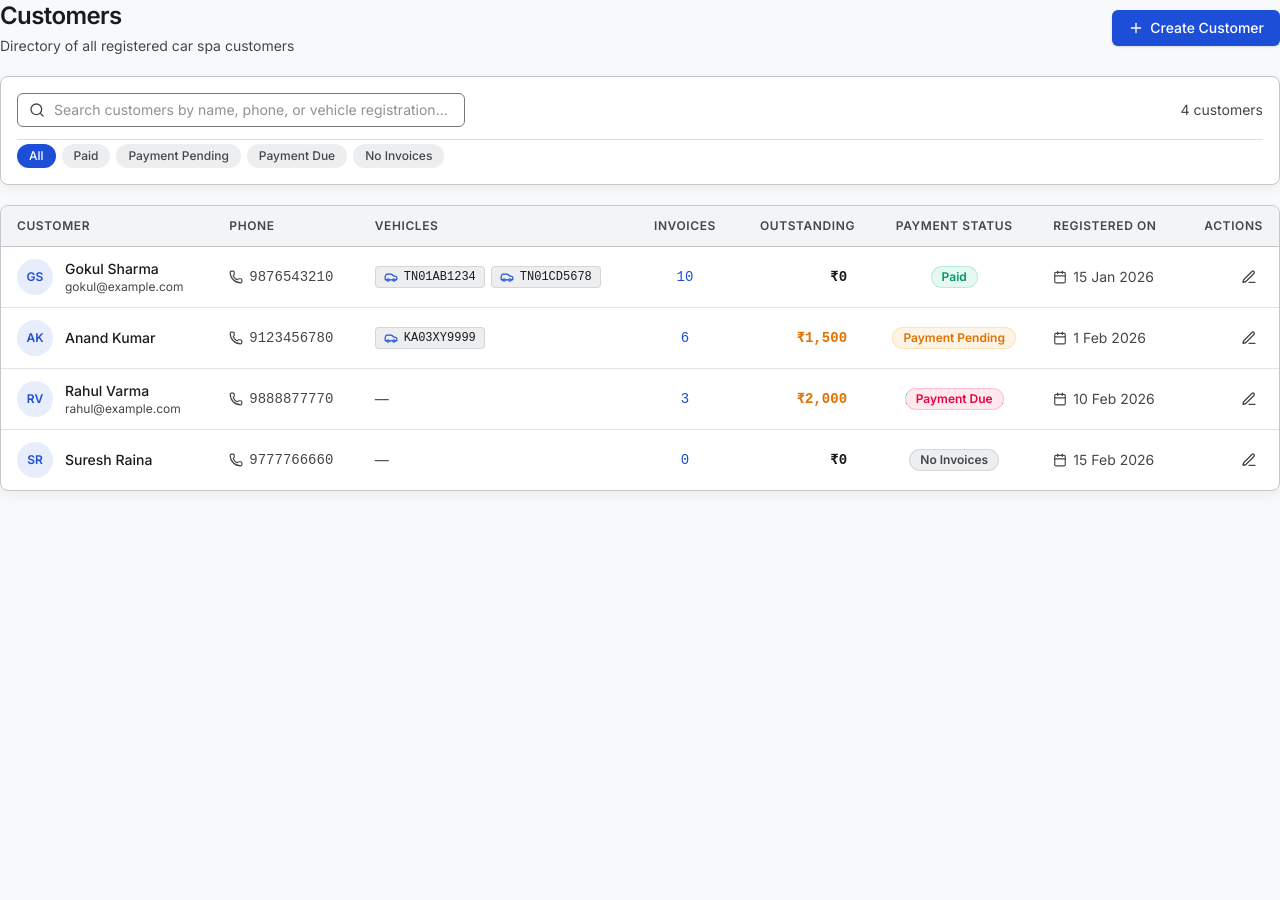
Test: CustomersPage Component › opens Edit Customer modal when clicking the Edit button
This screenshot has width=1280, height=900.
Expected: the text "Gokul Sharma" is shown, [65, 260, 159, 277]
What coordinates should you click on to do the following:
click the button titled "Edit Customer" in the row of "GS"
I would click on:
 (1249, 277)
Its box is [1235, 263, 1263, 291].
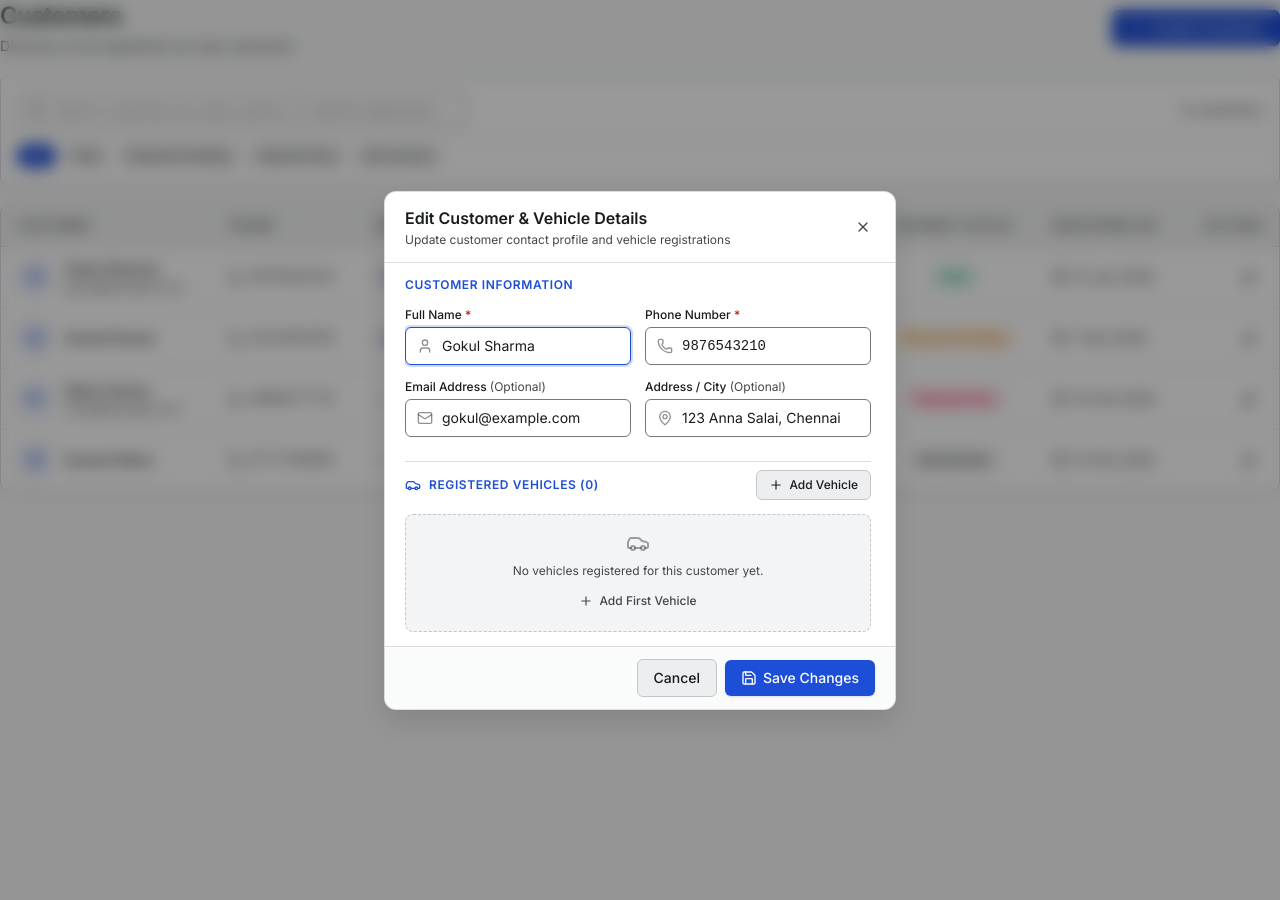
Now the heading "Edit Customer & Vehicle Details" is shown, box [405, 208, 647, 228]
Now the field showing "Gokul Sharma" below "Full Name" is shown, box [405, 326, 631, 364]
